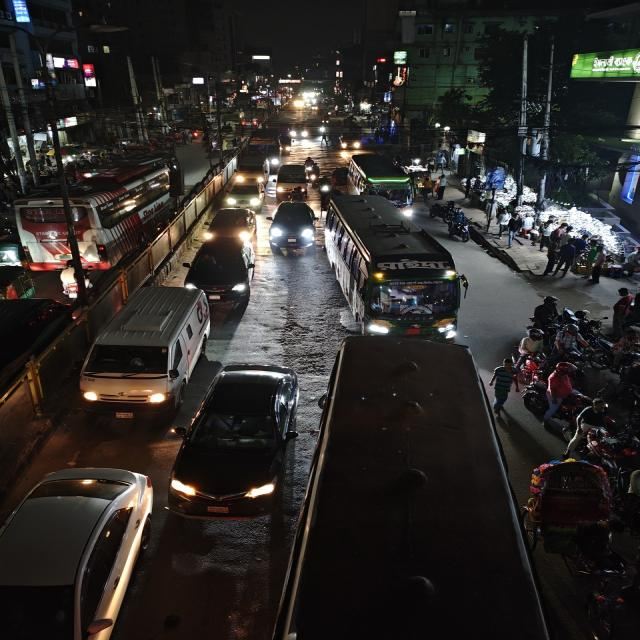bus: (295, 335, 523, 640), (325, 194, 472, 340), (13, 153, 176, 273), (345, 152, 418, 212), (244, 129, 283, 169)
car: (0, 465, 160, 639), (170, 358, 302, 524), (77, 284, 214, 410), (182, 236, 258, 306), (266, 200, 321, 256), (200, 206, 258, 243), (274, 162, 310, 198), (233, 158, 270, 193), (225, 180, 266, 208)
cng: (0, 207, 15, 265), (0, 236, 22, 268), (0, 203, 12, 239)
motorcycle: (54, 264, 94, 302), (442, 209, 474, 243)
pedestrian: (541, 361, 578, 416), (490, 356, 518, 414), (610, 286, 635, 332), (586, 239, 610, 285), (555, 234, 578, 276)
rickshaw: (522, 456, 618, 540), (557, 529, 636, 599)
